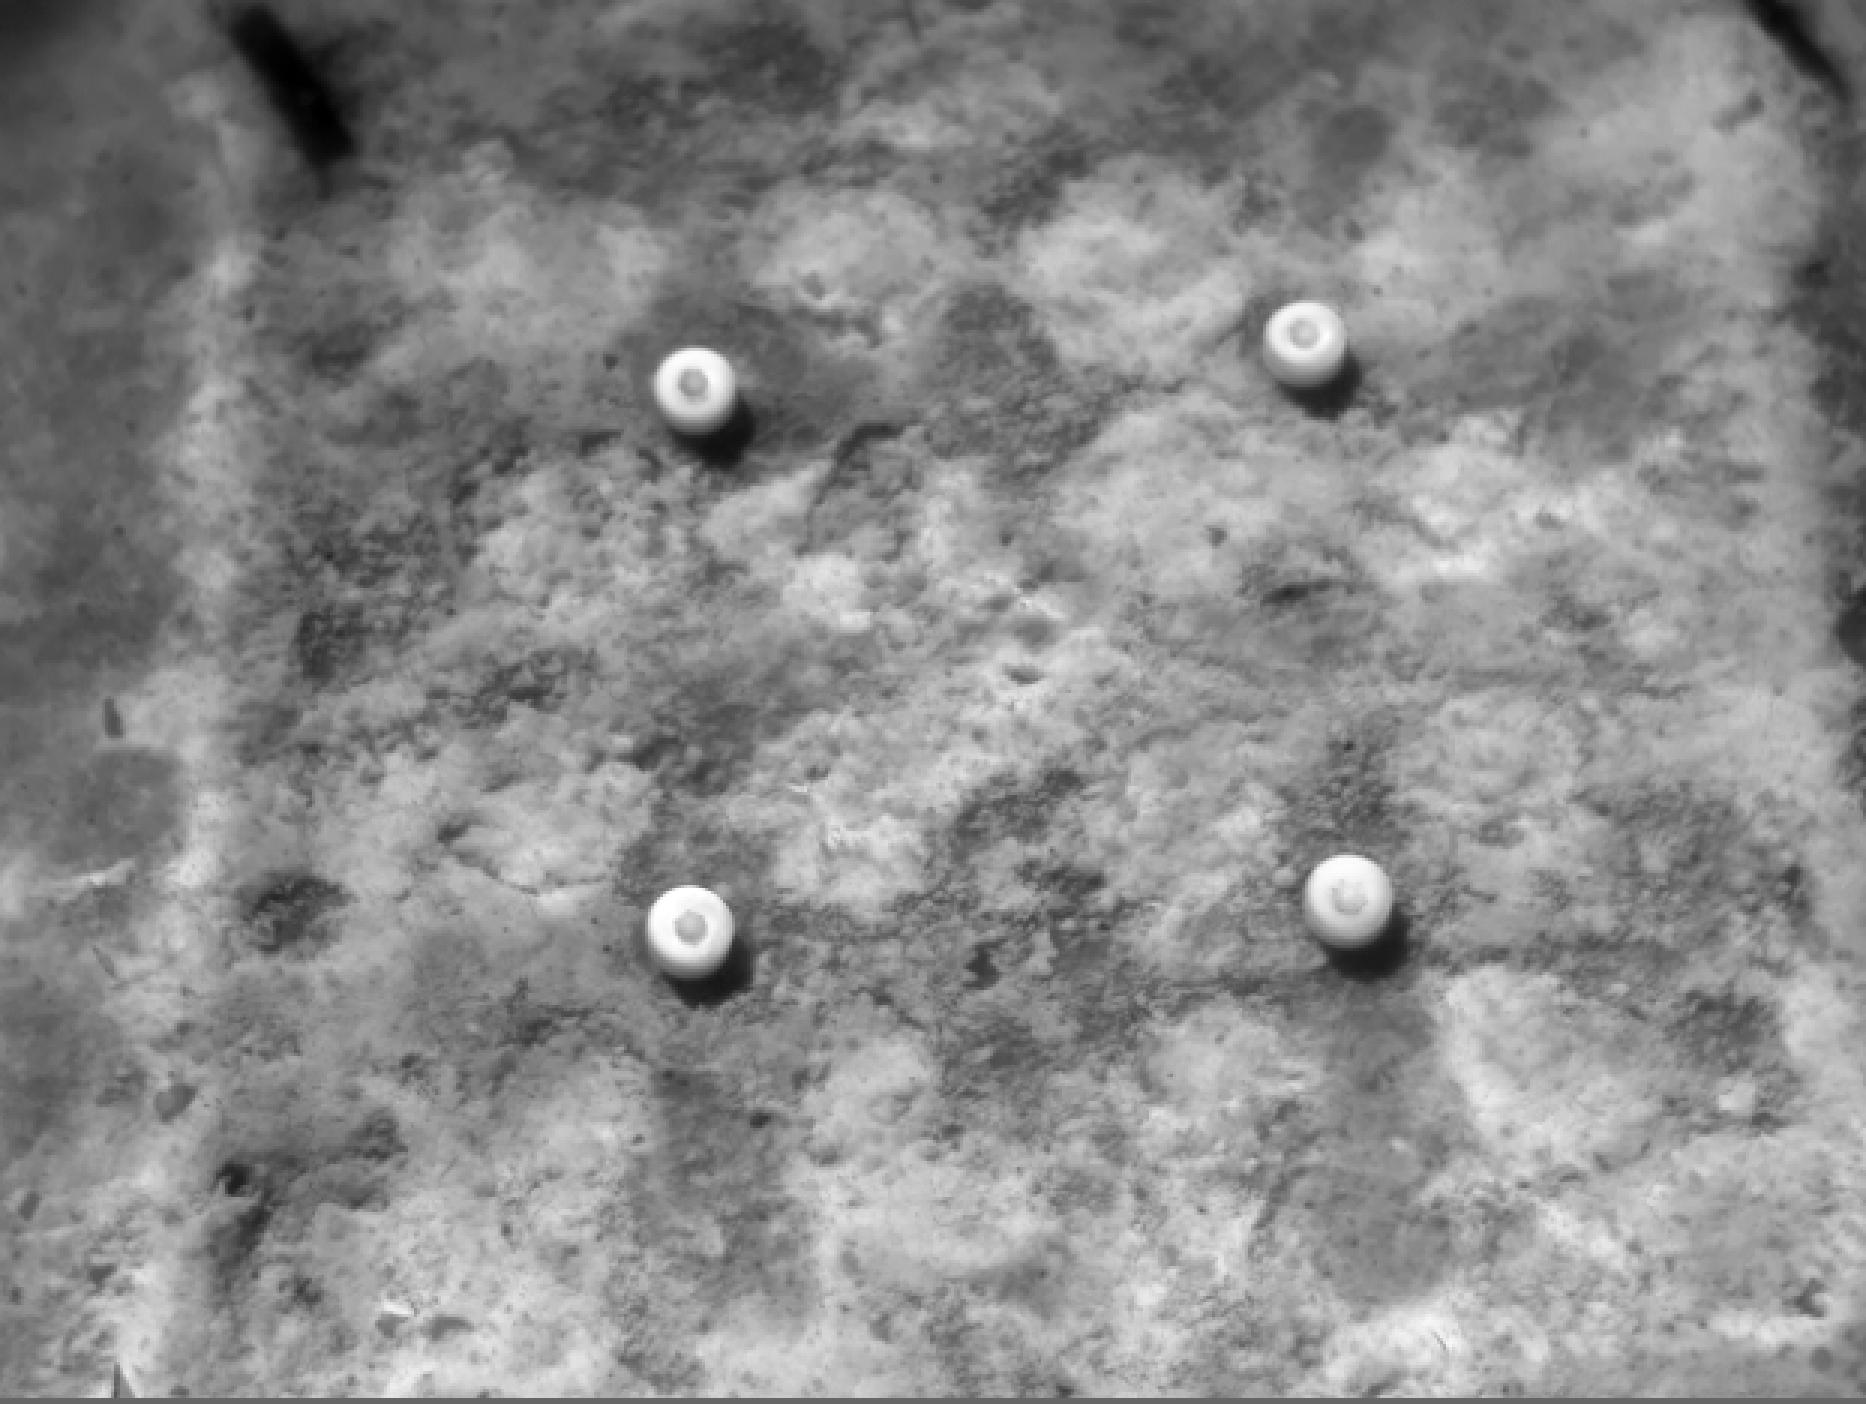mines-gjV8: (1303, 861, 1419, 954), (645, 882, 739, 984), (652, 338, 740, 423), (1263, 305, 1357, 383)
